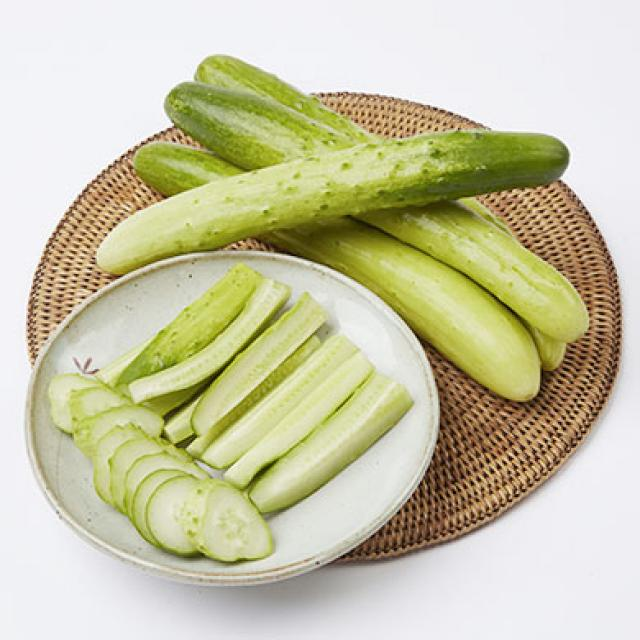cucumber: (42, 62, 606, 592), (110, 276, 399, 528), (55, 356, 272, 573)
